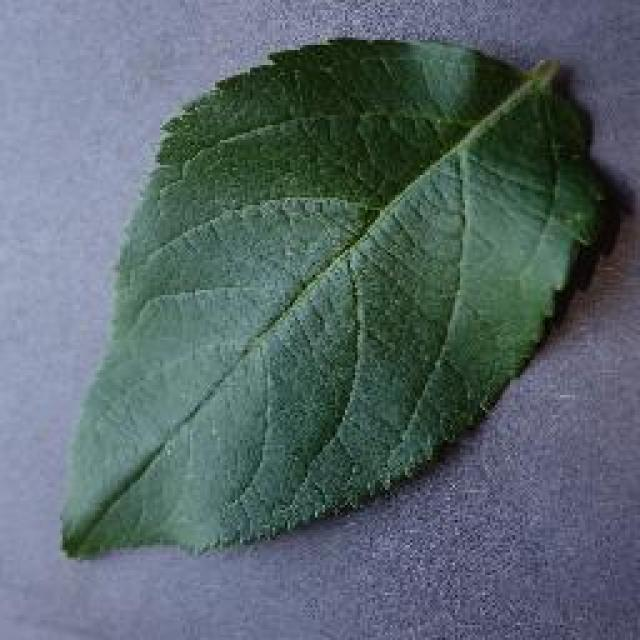apple healthy: (58, 32, 620, 560)
